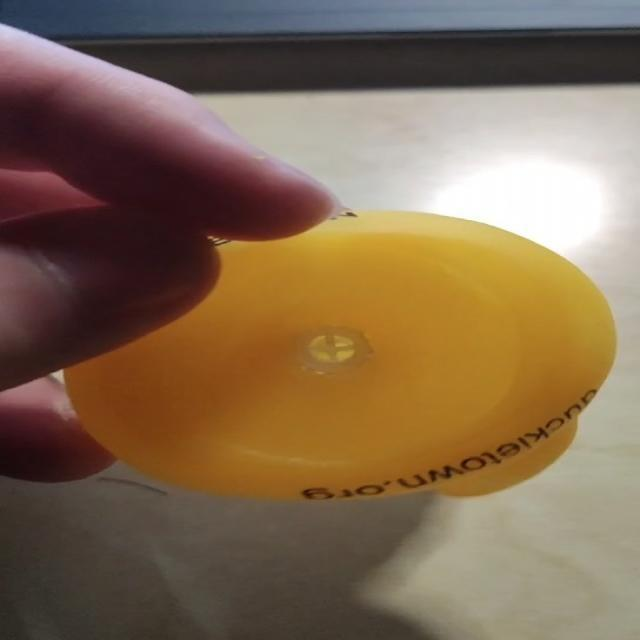rubber-duck: (65, 211, 614, 497)
